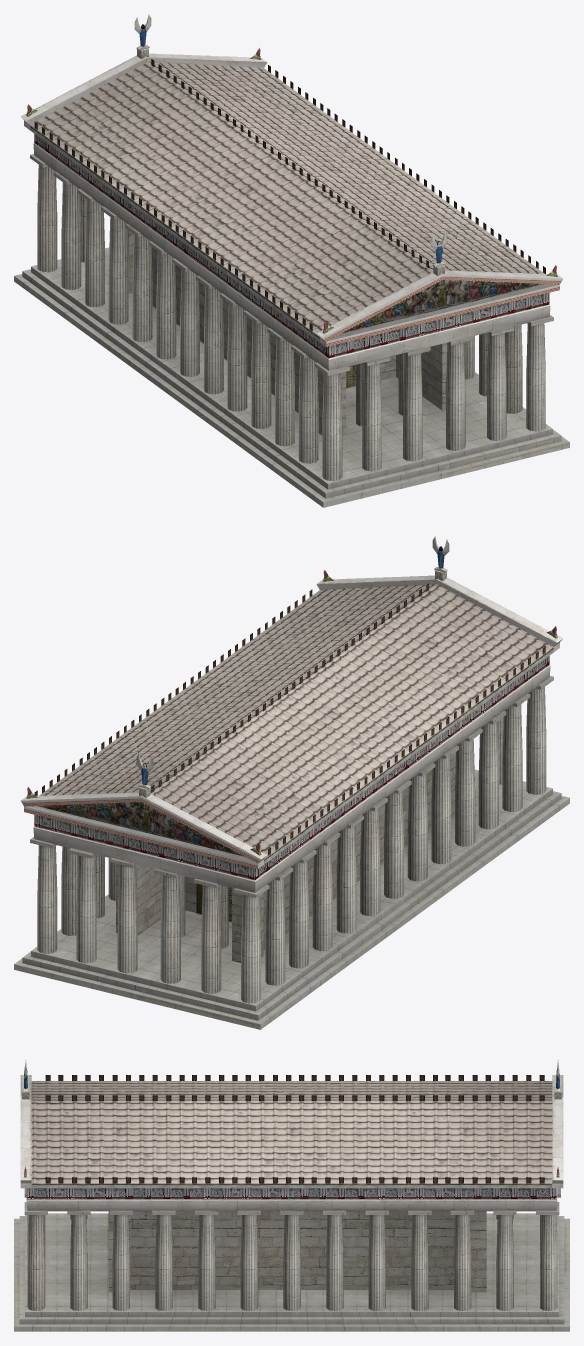
File: temple.glb
3 views of the same model, one above another, from view 1: azimuth 30°, elevation 25°; view 2: azimuth 150°, elevation 25°; view 3: azimuth 270°, elevation 25° (orthographic). The views are drawn at different scales.
Parts seen in each view (by area): view 1: temple_part3, temple_part2, temple_part1, temple_part0, temple_part4, temple_part5; view 2: temple_part3, temple_part2, temple_part1, temple_part0, temple_part4, temple_part5; view 3: temple_part3, temple_part1, temple_part2, temple_part4, temple_part0, temple_part5.
Boxes of the visible parts, x1,y1,x2,y2 form: temple_part3: (30, 62, 544, 342); temple_part2: (26, 14, 557, 480); temple_part1: (14, 154, 569, 507); temple_part0: (21, 53, 562, 370); temple_part4: (127, 230, 447, 435); temple_part5: (34, 59, 545, 330); temple_part3: (39, 584, 553, 864); temple_part2: (26, 536, 557, 1003); temple_part1: (14, 676, 569, 1029); temple_part0: (21, 575, 562, 892); temple_part4: (116, 752, 455, 962); temple_part5: (34, 583, 545, 855); temple_part3: (31, 1081, 552, 1188); temple_part1: (14, 1188, 569, 1331); temple_part2: (22, 1059, 561, 1310); temple_part4: (108, 1211, 486, 1292); temple_part0: (20, 1075, 563, 1211); temple_part5: (45, 1075, 544, 1183).
Bounding box in the file's own units: 2.3 × 2.15 × 5.
5 materials, 5 textured.
